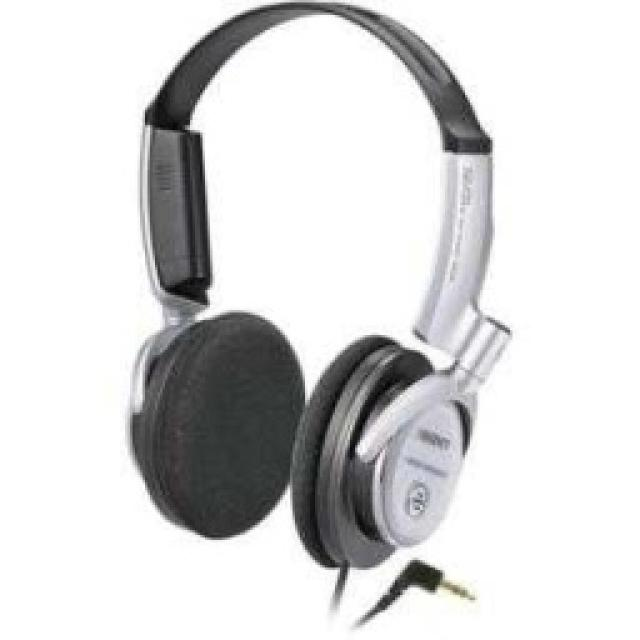headphones: (125, 0, 513, 570)
